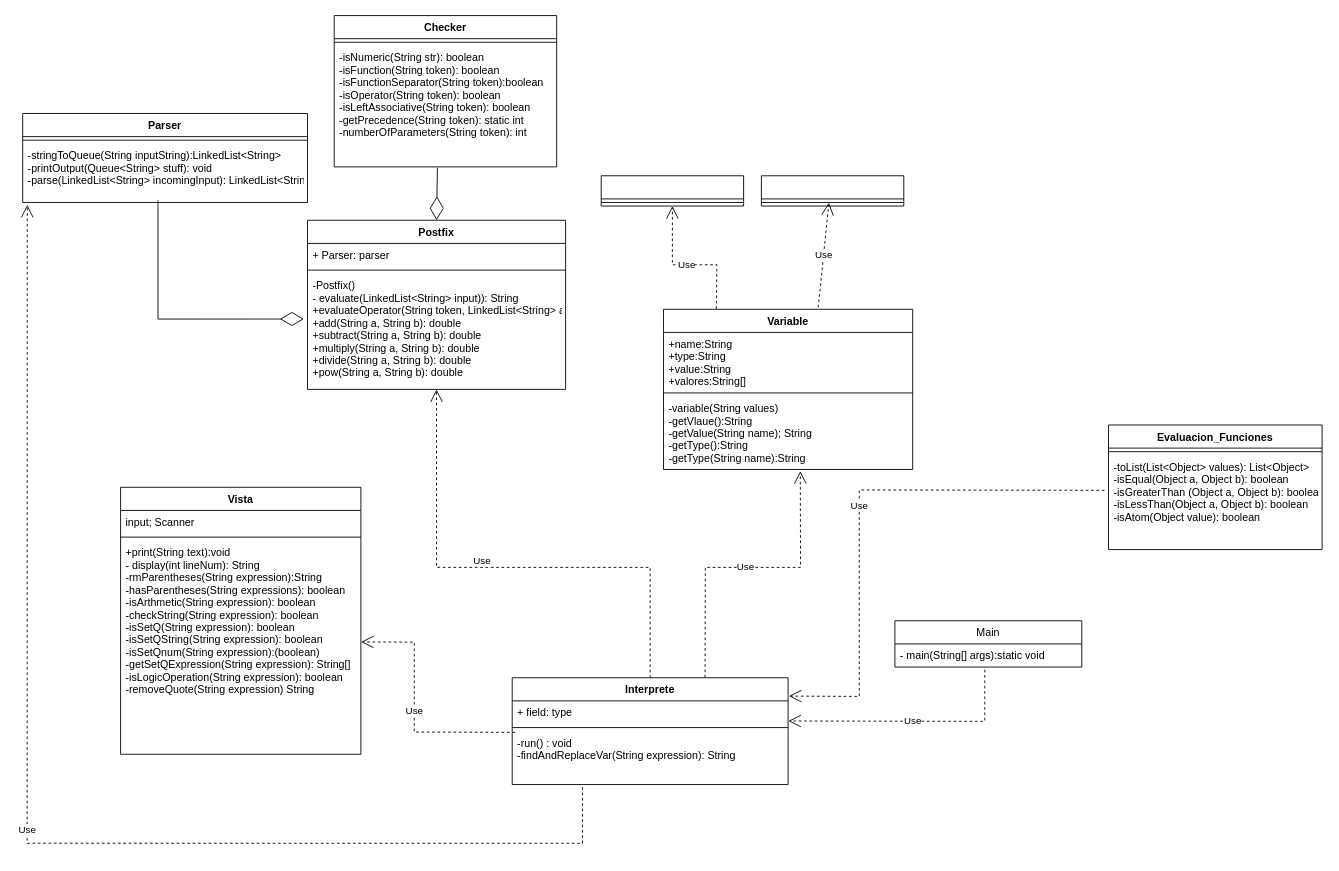
This 1339x871 diagram has some shape labels left out. The shapes that lost their labels are listed below. From the top down, each one's centre as x and y in pixels, then its label:
pixel 672 190: ArrayList
pixel 832 190: HashMap
